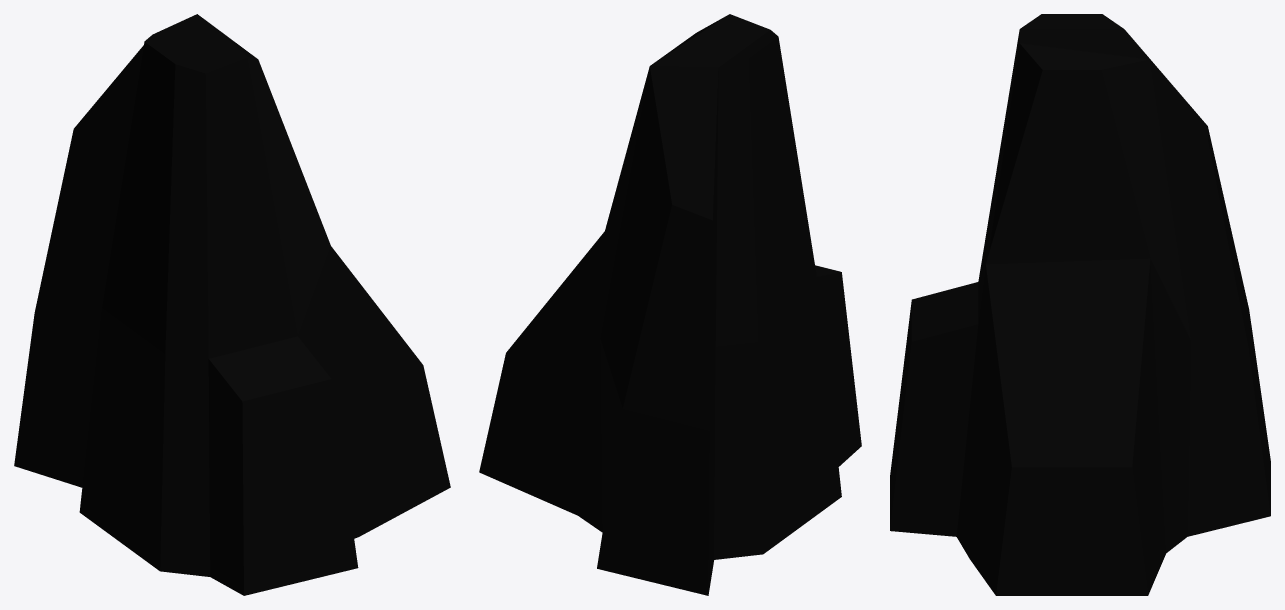
Rendered from Pedra2.fbx.
The picture shows the model from 3 angles, left to right: view 1: azimuth 30°, elevation 25°; view 2: azimuth 150°, elevation 25°; view 3: azimuth 270°, elevation 25°; orthographic projection. The views are drawn at different scales.
Visible parts, largest first — view 1: Pedra2; view 2: Pedra2; view 3: Pedra2.
Boxes of the visible parts, x1,y1,x2,y2 form: Pedra2: (14,14,450,595); Pedra2: (479,14,861,595); Pedra2: (890,14,1270,595).
Bounding box in the file's own units: 114 × 177 × 128.
